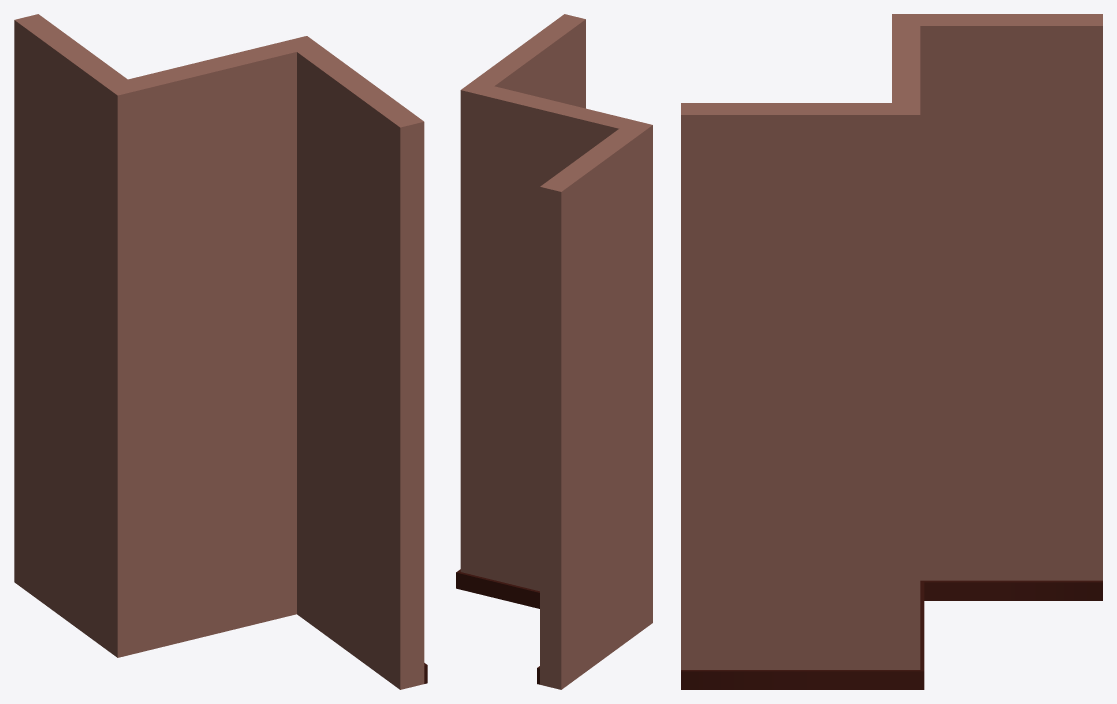
Rendered from T_Angles_01.fbx.
3 renders of one model, left to right at view 1: azimuth 30°, elevation 25°; view 2: azimuth 150°, elevation 25°; view 3: azimuth 270°, elevation 25°, orthographic. The views are drawn at different scales.
Visible parts, largest first — view 1: T_Angles_01; view 2: T_Angles_01; view 3: T_Angles_01.
Part boxes in pixels (x1,y1,x2,y2): T_Angles_01: (14,14,427,689); T_Angles_01: (456,14,652,689); T_Angles_01: (681,14,1102,689).
Size of the model in its own units: 115 by 300 by 200.
